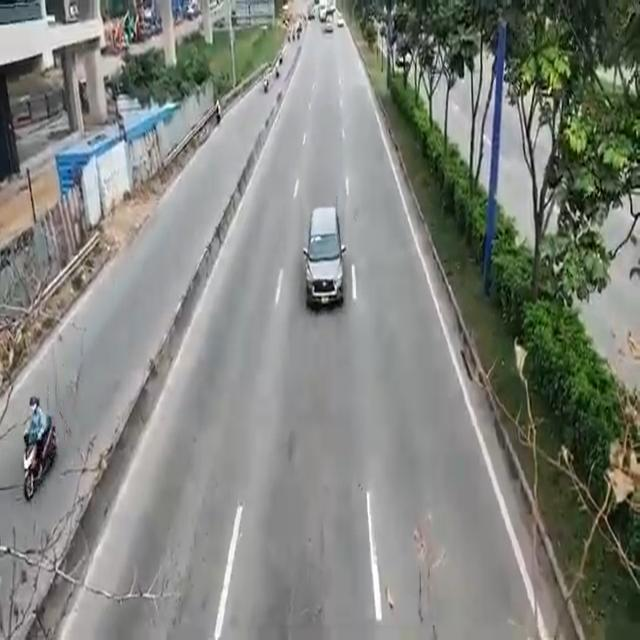car: (305, 208, 345, 306)
motor: (22, 394, 53, 496)
